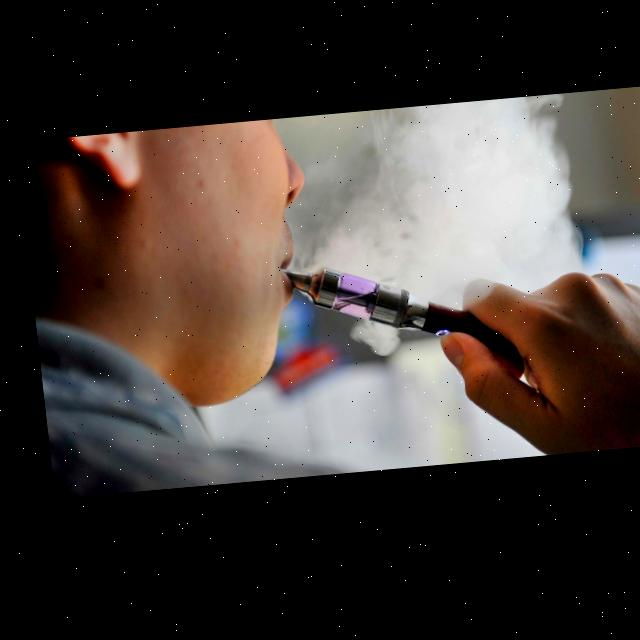vape: (274, 257, 514, 381)
